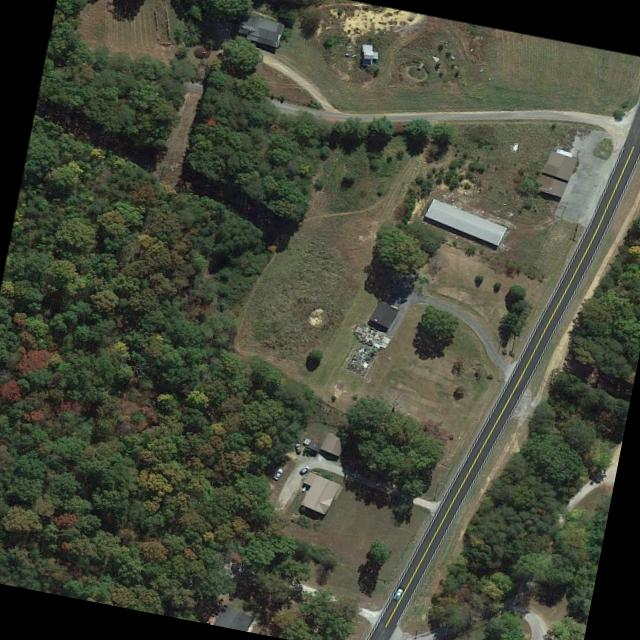small-vehicle: (272, 468, 284, 482), (394, 588, 404, 601), (300, 465, 311, 475), (295, 443, 302, 454)
